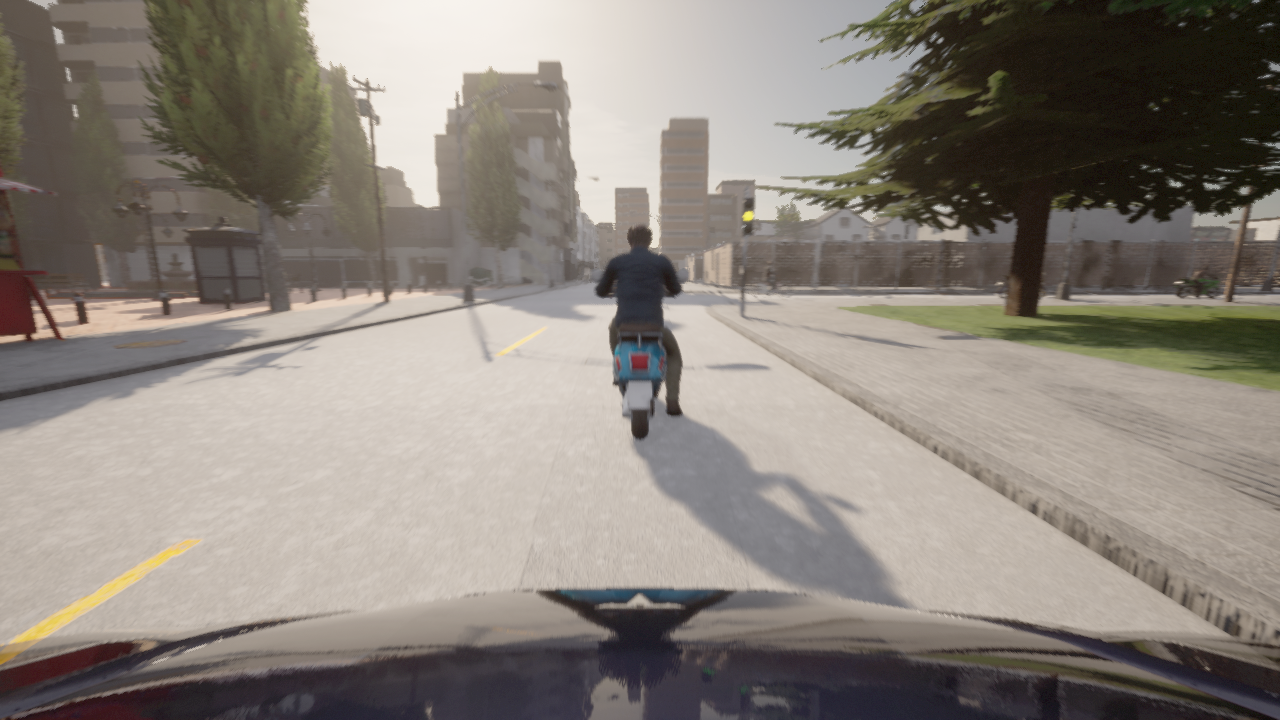cyclist: (0, 588, 1279, 719), (591, 269, 688, 439), (996, 273, 1046, 298), (1173, 274, 1223, 298), (753, 275, 791, 299)
